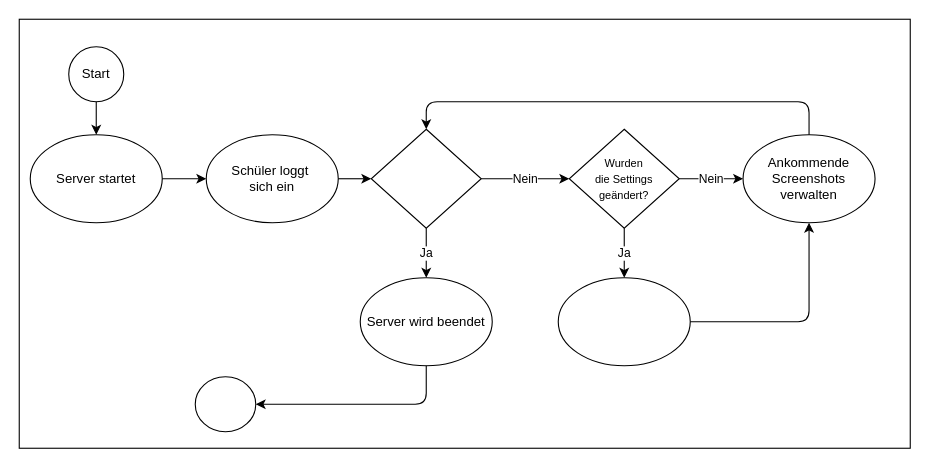
The diagram is 930 pixels wide and 468 high, and some of its shapes have lost their labels. Here are the shapes that lost their labels. From the top down, the centre of each, then its label:
point (425, 178): Wurde der Server beendet?
point (623, 321): Schüler über die Änderungen informieren
point (225, 404): Ende
